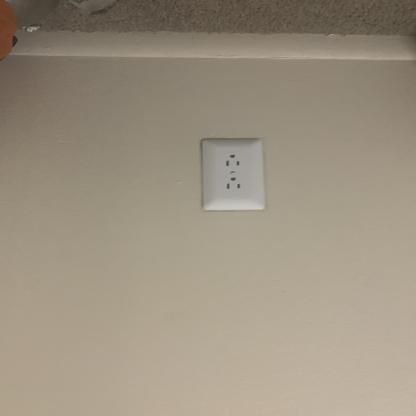OUTLET: (200, 138, 265, 210)
